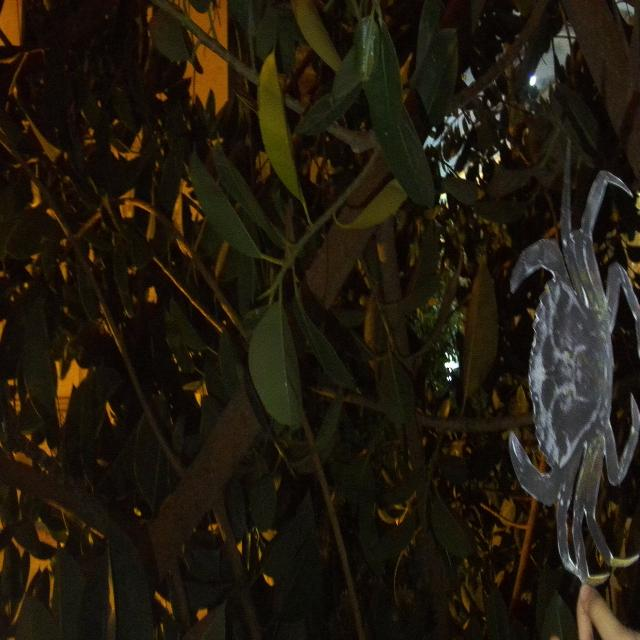European_Green_Crab: (509, 168, 640, 586)
